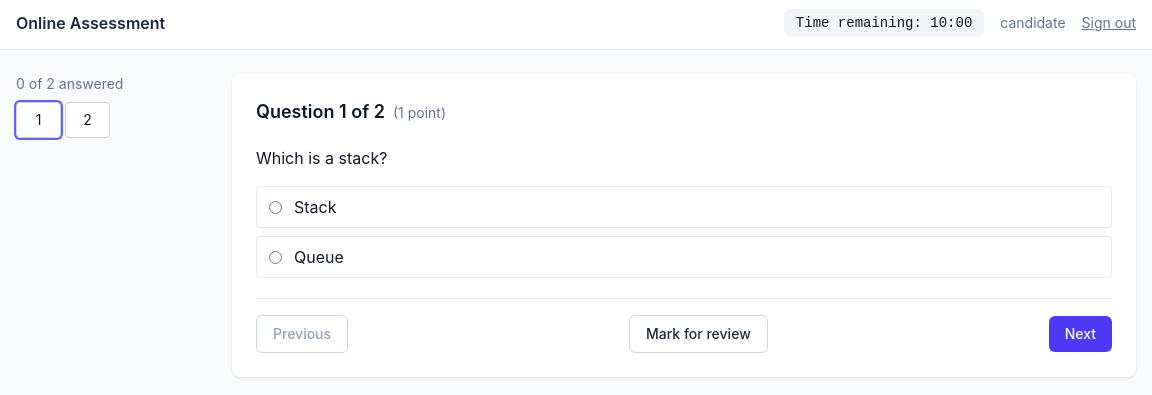
Test: Assessment page › autosaves a choice and navigates between questions
The image size is (1152, 395).
Expected: the heading "Question 1 of 2(1 point)" is shown, top-left (256, 98), bottom-right (446, 126)
Click the radio button labelled "Stack" at (276, 207), box top-left (269, 200), bottom-right (282, 214)
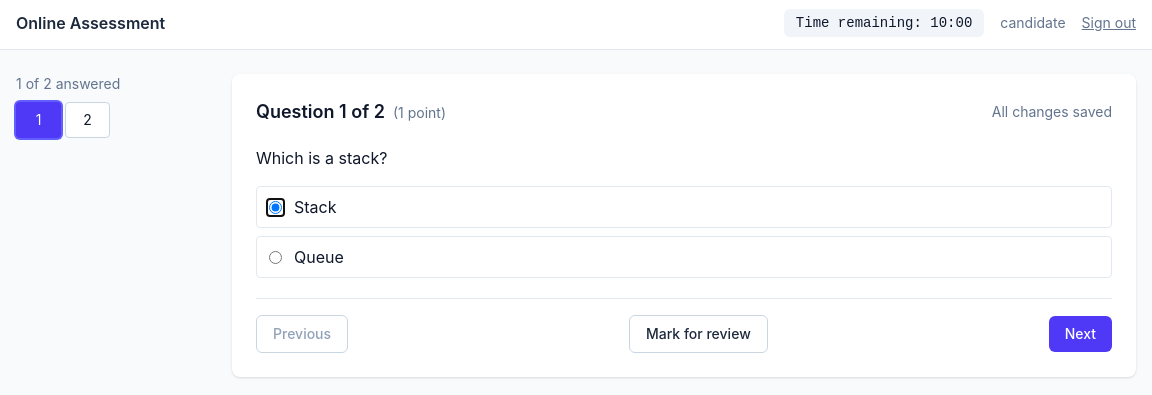
Expected: the text "All changes saved" is shown, top-left (992, 102), bottom-right (1112, 122)
Click the button "Next" at (1080, 334), box top-left (1049, 316), bottom-right (1112, 352)
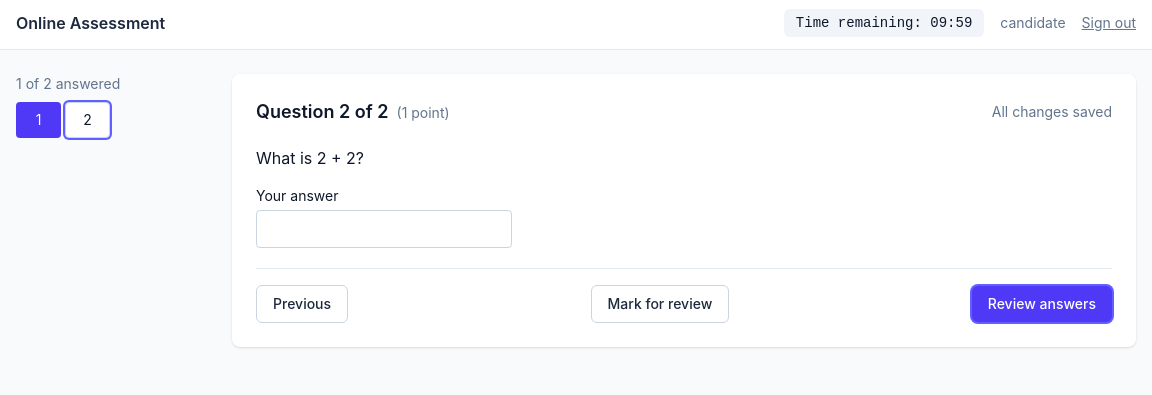
Expected: the heading "Question 2 of 2(1 point)" is shown, top-left (256, 98), bottom-right (450, 126)
Expected: the button "Review answers" is shown, top-left (972, 286), bottom-right (1112, 322)
